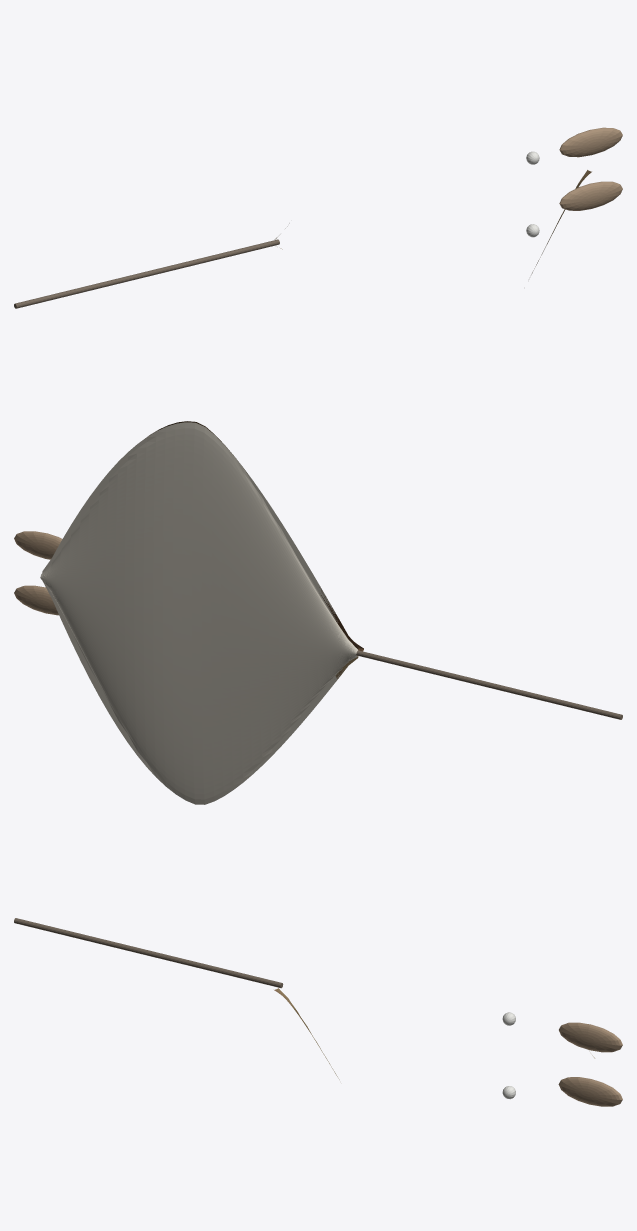
The model's file is cownose_ray_photoreal_style.glb.
3 views of the same model, one above another, from view 1: azimuth 30°, elevation 25°; view 2: azimuth 150°, elevation 25°; view 3: azimuth 330°, elevation 25° (orthographic).
Parts seen in each view (by area): view 1: world; view 2: world; view 3: world.
Part boxes in pixels (x1,y1,x2,y2): world: (14, 127, 622, 308); world: (14, 421, 622, 804); world: (14, 918, 622, 1106).
Size of the model in its own units: 4.7 by 2.81 by 0.2991.
1 material, 1 textured.
